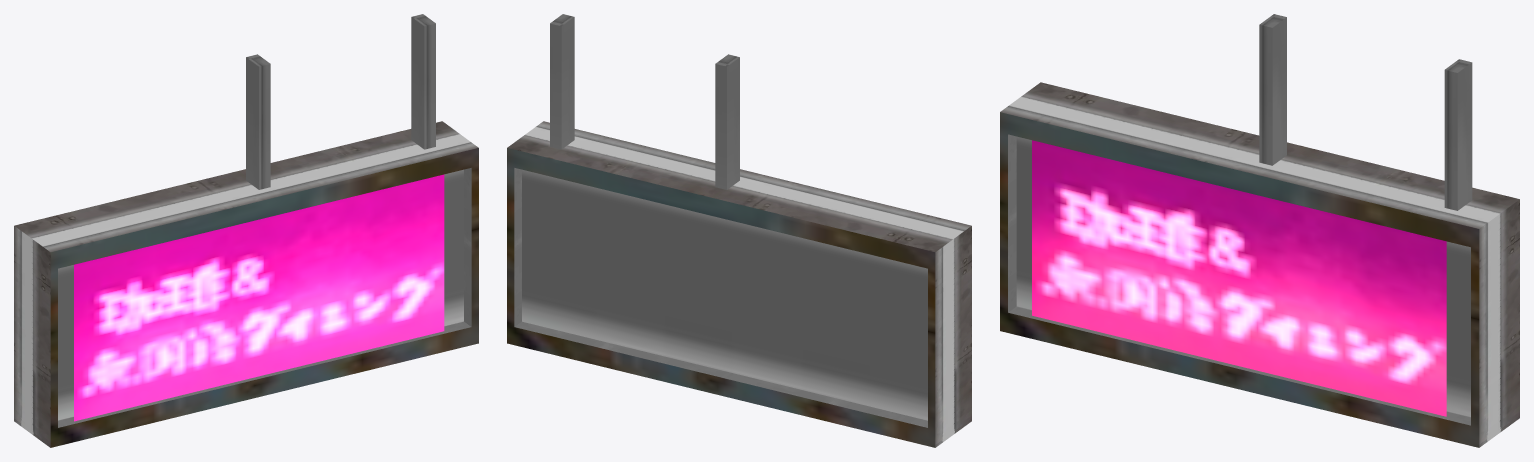
File: pm-japanese-sign-05.glb
3 renders of one model, left to right at view 1: azimuth 30°, elevation 25°; view 2: azimuth 150°, elevation 25°; view 3: azimuth 330°, elevation 25°, orthographic. The views are drawn at different scales.
Parts seen in each view (by area): view 1: Japanese_Sign_05; view 2: Japanese_Sign_05; view 3: Japanese_Sign_05.
Part boxes in pixels (box(x1,y1,x2,y2)): Japanese_Sign_05: box(14, 14, 478, 447); Japanese_Sign_05: box(507, 14, 971, 447); Japanese_Sign_05: box(1000, 14, 1519, 447).
Bounding box in the file's own units: 0.8588 × 0.6112 × 0.1264.
2 materials, 1 textured.
